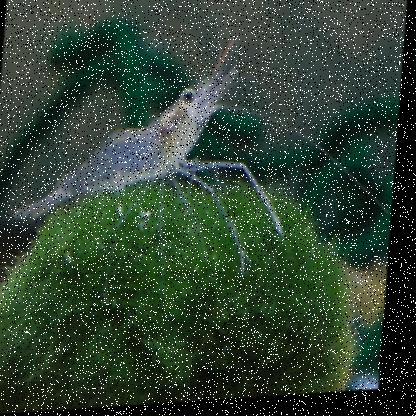shrimp: (7, 49, 307, 276)
